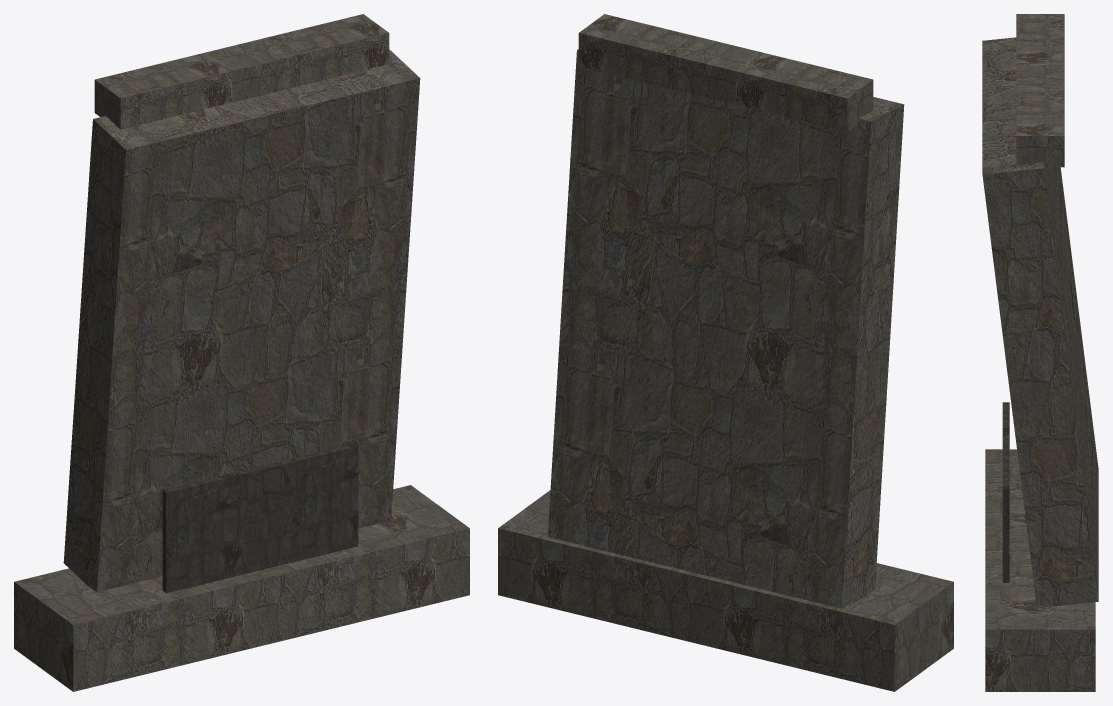
The model's file is prop_headstone_c.glb.
3 views of the same model, side by side, from view 1: azimuth 30°, elevation 25°; view 2: azimuth 150°, elevation 25°; view 3: azimuth 270°, elevation 25° (orthographic). The views are drawn at different scales.
Parts seen in each view (by area): view 1: prop_headstone_c; view 2: prop_headstone_c; view 3: prop_headstone_c.
Boxes of the visible parts, x1,y1,x2,y2 form: prop_headstone_c: (14, 14, 469, 691); prop_headstone_c: (498, 14, 953, 691); prop_headstone_c: (982, 14, 1098, 691).
Size of the model in its own units: 0.62 by 0.845 by 0.1687.
2 materials, 2 textured.
